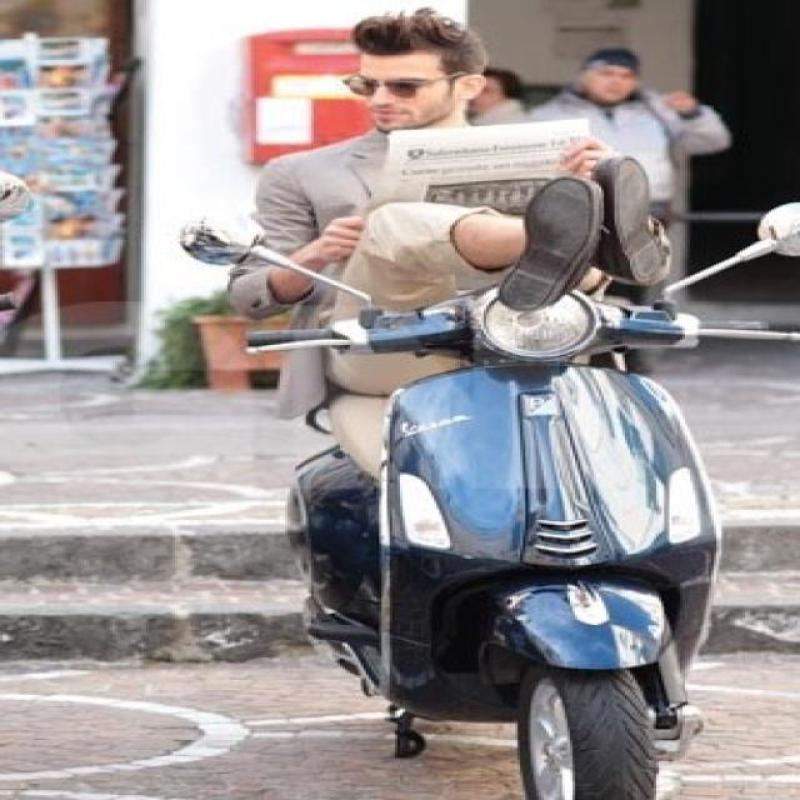nohelmet: (332, 9, 492, 127)
